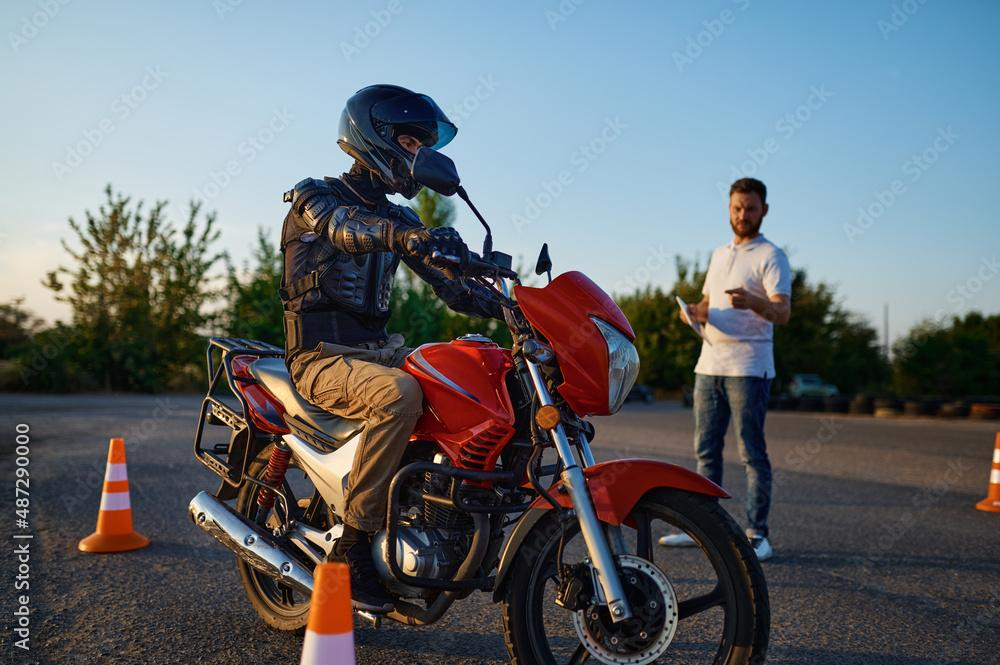helmet: (335, 83, 460, 201)
nohelmet: (728, 176, 770, 240)
